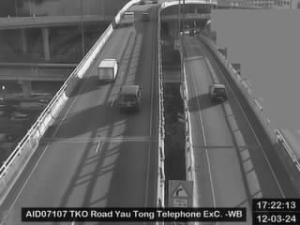truck: (98, 58, 120, 83), (124, 12, 134, 24)
vehicle: (118, 84, 144, 112), (209, 84, 228, 102), (143, 13, 151, 21)
